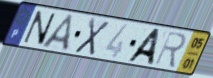4: (102, 22, 131, 60)
A: (124, 27, 163, 67), (39, 13, 76, 54)
N: (21, 9, 57, 47)
R: (152, 30, 188, 69)
X: (72, 16, 111, 58)
